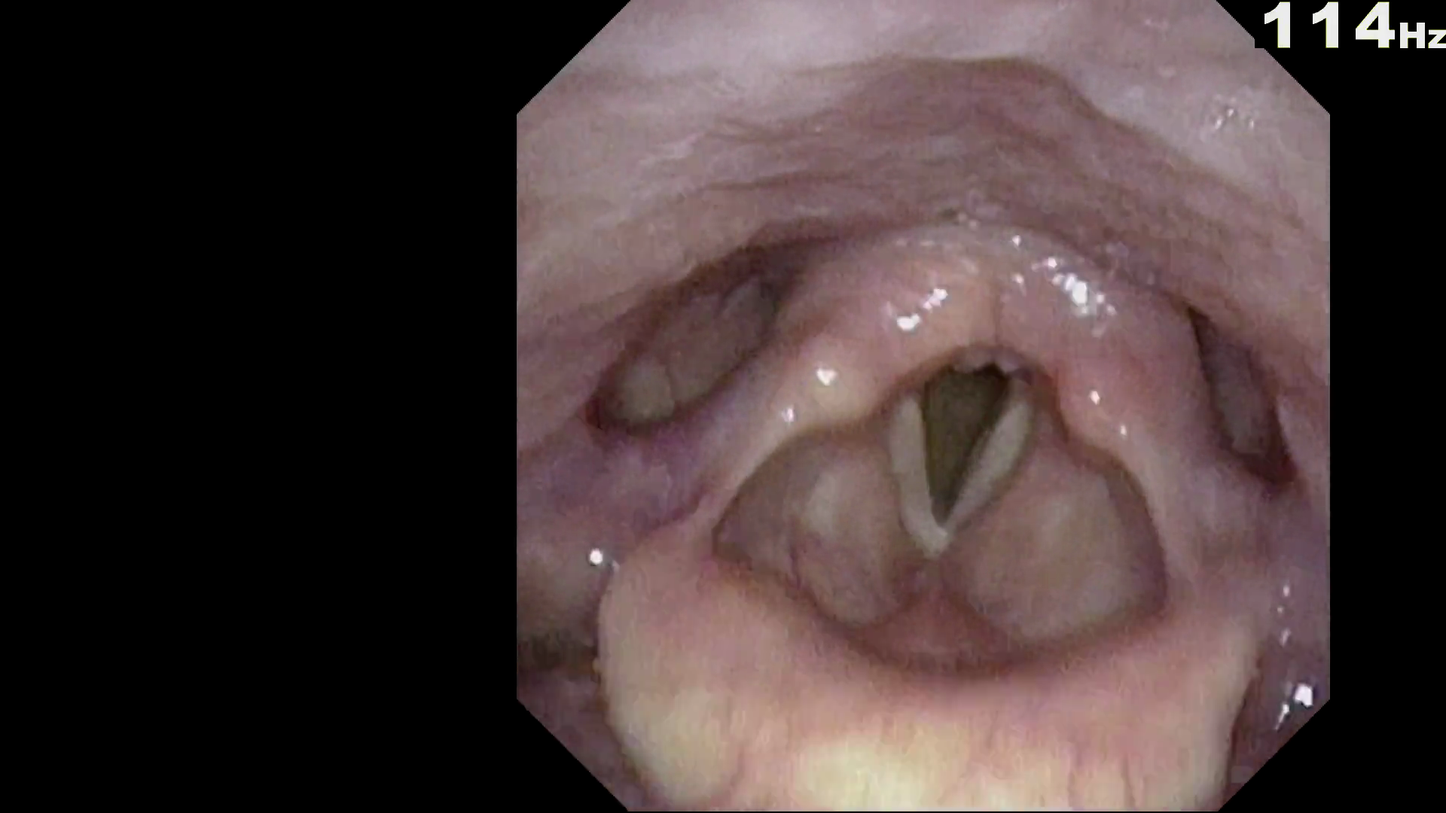epiglottis: (582, 480, 1272, 738)
trachea: (866, 339, 1045, 564)
